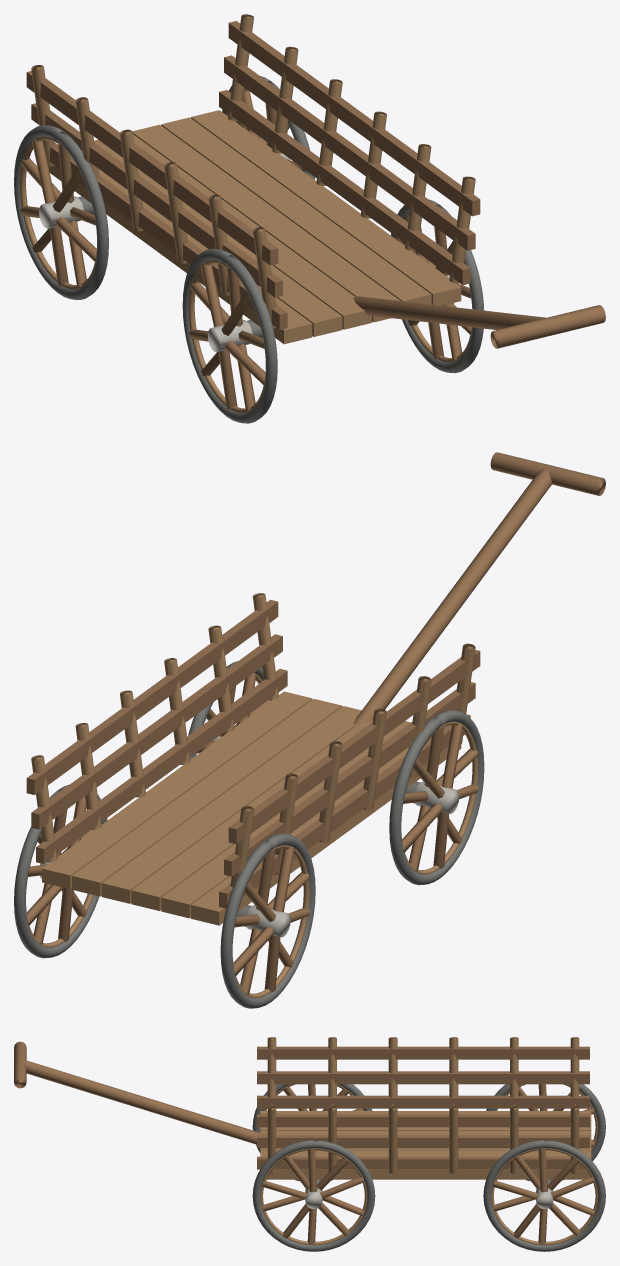
File: leiterwagen.glb
3 renders of one model, top to bottom at view 1: azimuth 30°, elevation 25°; view 2: azimuth 150°, elevation 25°; view 3: azimuth 270°, elevation 25°, orthographic. The views are drawn at different scales.
Parts seen in each view (by area): view 1: Modell, Rad_1_-1, Rad_0_-1, Rad_1_1, Rad_0_1; view 2: Modell, Rad_0_-1, Rad_1_-1, Rad_0_1, Rad_1_1; view 3: Modell, Rad_0_1, Rad_1_1, Rad_0_-1, Rad_1_-1.
Part boxes in pixels (x1,y1,x2,y2): Modell: (26, 14, 605, 348); Rad_1_-1: (182, 248, 277, 423); Rad_0_-1: (14, 125, 108, 299); Rad_1_1: (391, 199, 484, 373); Rad_0_1: (222, 76, 314, 179); Modell: (26, 452, 605, 926); Rad_0_-1: (220, 833, 315, 1008); Rad_1_-1: (389, 710, 484, 885); Rad_0_1: (14, 784, 107, 958); Rad_1_1: (188, 661, 271, 759); Modell: (14, 1037, 591, 1183); Rad_0_1: (483, 1140, 605, 1251); Rad_1_1: (252, 1140, 375, 1251); Rad_0_-1: (486, 1084, 605, 1181); Rad_1_-1: (252, 1084, 372, 1181).
Size of the model in its own units: 0.81 by 0.747 by 2.54.
